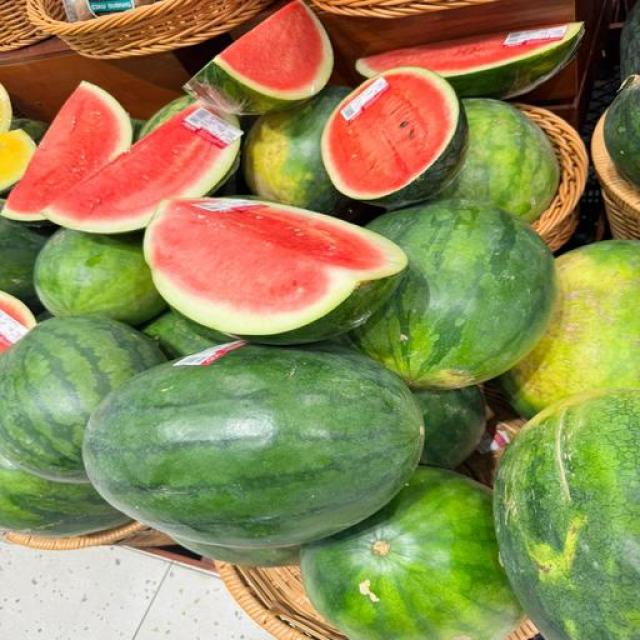organic: (84, 345, 423, 547), (352, 200, 556, 388), (302, 468, 522, 639), (145, 199, 406, 343), (495, 390, 639, 639), (148, 200, 386, 314), (0, 317, 164, 482), (43, 105, 239, 233), (502, 240, 639, 417), (48, 104, 228, 232), (322, 68, 468, 209), (2, 82, 132, 223), (357, 23, 584, 98), (184, 2, 333, 114), (324, 72, 457, 196), (7, 83, 131, 214), (443, 99, 559, 222), (243, 87, 349, 214), (34, 229, 166, 324), (240, 269, 404, 344), (447, 23, 584, 98), (0, 457, 128, 537), (219, 0, 324, 91), (364, 32, 562, 73), (185, 59, 303, 114), (414, 385, 486, 468), (143, 310, 233, 358), (0, 218, 47, 308), (604, 75, 639, 187), (175, 538, 299, 567), (0, 129, 36, 198), (137, 95, 193, 138), (0, 292, 37, 357), (208, 154, 252, 198), (0, 213, 58, 238), (620, 4, 639, 78), (12, 118, 48, 143), (0, 88, 12, 132), (329, 334, 354, 348), (132, 118, 144, 142), (37, 312, 53, 322)
